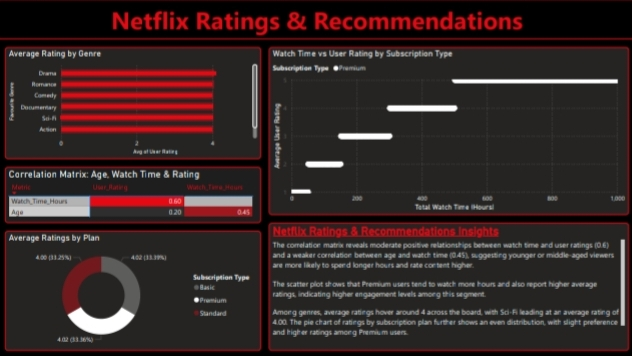

The page's visual inventory and layout, read from the dashboard file:
{"tool":"powerbi","page":{"name":"Page 4","canvas":[1280,720],"ordinal":4},"visuals":[{"type":"textbox","box":[0,0,1280,80],"z":0},{"type":"clusteredBarChart","title":"Average Rating by Genre","fields":{"Category":["netflix_users.Favorite_Genre"],"Y":["Avg(netflix_users.User_Rating)"]},"box":[16,96,512,224],"z":1000},{"type":"donutChart","title":"Average Ratings by Plan","fields":{"Category":["netflix_users.Subscription_Type"],"Y":["Avg(netflix_users.User_Rating)"]},"box":[16,464,512,240],"z":2000},{"type":"pivotTable","title":"Correlation Matrix: Age, Watch Time & Rating","fields":{"Rows":["CorrelationTable.Metric1"],"Columns":["CorrelationTable.Metric2"],"Values":["Avg(CorrelationTable.Correlation)"]},"box":[16,336,512,112],"z":3000},{"type":"scatterChart","title":"Watch Time vs User Rating by Subscription Type","fields":{"X":["netflix_users.Watch_Time_Hours"],"Y":["netflix_users.User_Rating"],"Series":["netflix_users.Subscription_Type"]},"box":[544,96,720,336],"z":3001},{"type":"textbox","title":"Netflix Ratings & Recommendations Insights","box":[544,448,720,256],"z":3002}]}

Visuals, with their boxes in screenshot pixels (x1, y1, x2, y2), scaled from the page's 1280x720 canvas onto the 632x356 screenshot:
textbox: (left=0, top=0, right=631, bottom=40)
"Average Rating by Genre" clusteredBarChart: (left=8, top=47, right=261, bottom=158)
"Average Ratings by Plan" donutChart: (left=8, top=229, right=261, bottom=348)
"Correlation Matrix: Age, Watch Time & Rating" pivotTable: (left=8, top=166, right=261, bottom=222)
"Watch Time vs User Rating by Subscription Type" scatterChart: (left=269, top=47, right=624, bottom=214)
"Netflix Ratings & Recommendations Insights" textbox: (left=269, top=222, right=624, bottom=348)
